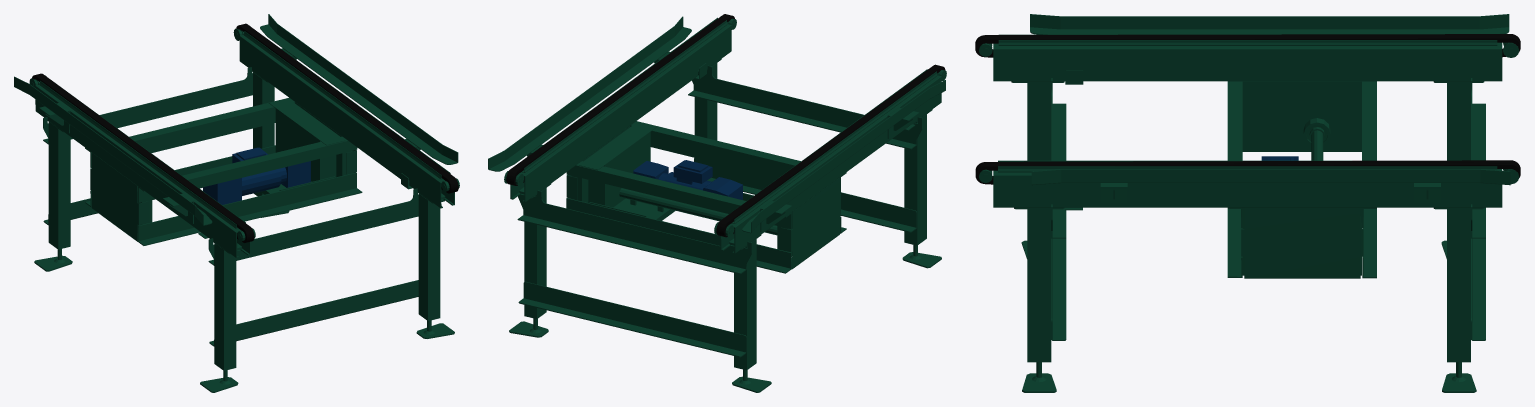
Rendered from 链条机.glb.
3 views of the same model, side by side, from view 1: azimuth 30°, elevation 25°; view 2: azimuth 150°, elevation 25°; view 3: azimuth 270°, elevation 25° (orthographic). The views are drawn at different scales.
Visible parts, largest first — view 1: Box003, DJ, Rail_02_M001, Rail_01_M001, ZJ01, ZJ; view 2: Box003, Rail_02_M001, Rail_01_M001, DJ, ZJ01, ZJ; view 3: Box003, Rail_01_M001, Rail_02_M001, ZJ, ZJ01.
Boxes of the visible parts, x1,y1,x2,y2 form: Box003: [14, 14, 458, 392]; DJ: [203, 147, 310, 204]; Rail_02_M001: [32, 73, 254, 242]; Rail_01_M001: [236, 23, 458, 193]; ZJ01: [243, 31, 450, 179]; ZJ: [39, 81, 245, 229]; Box003: [488, 16, 946, 392]; Rail_02_M001: [716, 64, 945, 237]; Rail_01_M001: [506, 14, 734, 185]; DJ: [633, 160, 742, 199]; ZJ01: [521, 17, 727, 172]; ZJ: [731, 69, 937, 223]; Box003: [979, 14, 1519, 392]; Rail_01_M001: [975, 160, 1520, 184]; Rail_02_M001: [975, 34, 1520, 57]; ZJ: [998, 34, 1497, 45]; ZJ01: [998, 160, 1497, 172].
Bounding box in the file's own units: 1.27 × 0.8298 × 1.83.
